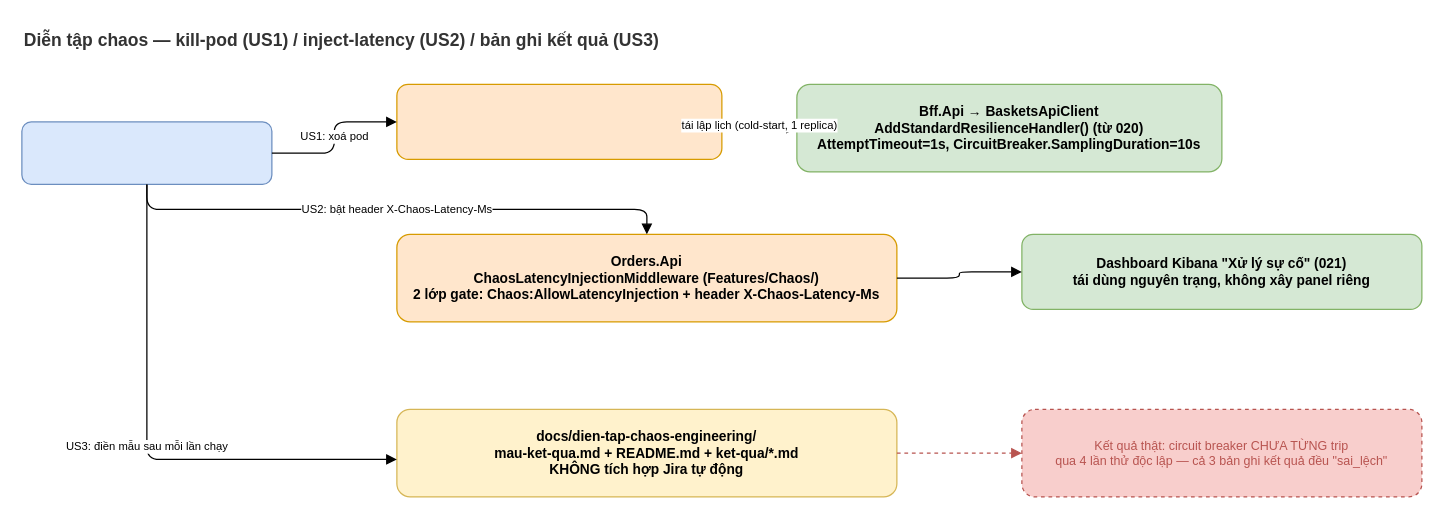
This 1444x519 diagram has some shape labels left out. The centre of each missing label's shape, as x and y in pixels:
"Kubernetes kubectl delete pod -l app=baskets" goes at pixel 559 121.
"Người thực hiện (SRE)" goes at pixel 146 152.
